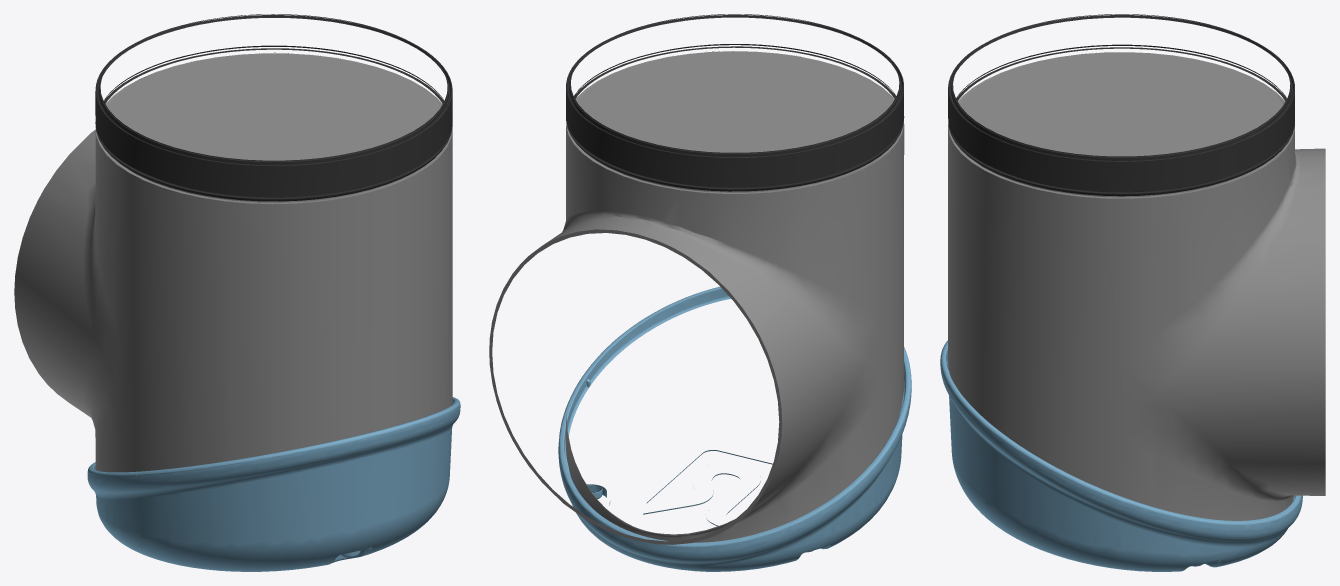
The picture shows the model from 3 angles, left to right: view 1: azimuth 30°, elevation 25°; view 2: azimuth 150°, elevation 25°; view 3: azimuth 270°, elevation 25°; orthographic projection. The views are drawn at different scales.
Visible parts, largest first — view 1: /eSeries_UR10e_040/eSeries_UR10e_040-mesh/0, /eSeries_UR10e_030/eSeries_UR10e_062-mesh/0, /eSeries_UR10e_035/eSeries_UR10e_063-mesh/0; view 2: /eSeries_UR10e_040/eSeries_UR10e_040-mesh/0, /eSeries_UR10e_030/eSeries_UR10e_062-mesh/0, /eSeries_UR10e_035/eSeries_UR10e_063-mesh/0; view 3: /eSeries_UR10e_040/eSeries_UR10e_040-mesh/0, /eSeries_UR10e_030/eSeries_UR10e_062-mesh/0, /eSeries_UR10e_035/eSeries_UR10e_063-mesh/0.
Part boxes in pixels (box(x1,y1,x2,y2)): /eSeries_UR10e_040/eSeries_UR10e_040-mesh/0: box(14, 53, 452, 472); /eSeries_UR10e_030/eSeries_UR10e_062-mesh/0: box(87, 397, 460, 571); /eSeries_UR10e_035/eSeries_UR10e_063-mesh/0: box(95, 14, 452, 201); /eSeries_UR10e_040/eSeries_UR10e_040-mesh/0: box(489, 51, 904, 544); /eSeries_UR10e_030/eSeries_UR10e_062-mesh/0: box(558, 286, 911, 571); /eSeries_UR10e_035/eSeries_UR10e_063-mesh/0: box(566, 14, 904, 191); /eSeries_UR10e_040/eSeries_UR10e_040-mesh/0: box(948, 52, 1325, 520); /eSeries_UR10e_030/eSeries_UR10e_062-mesh/0: box(940, 340, 1302, 571); /eSeries_UR10e_035/eSeries_UR10e_063-mesh/0: box(948, 14, 1294, 196).
Size of the model in its own units: 0.094 by 0.1249 by 0.0999.
